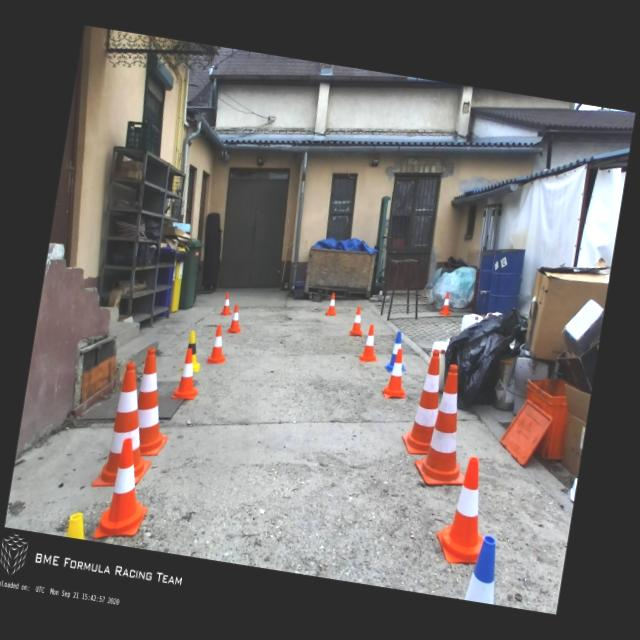blue_cone: (464, 532, 504, 604), (384, 330, 412, 374)
large_orange_cone: (92, 360, 166, 496), (411, 360, 482, 490), (130, 348, 182, 460), (399, 346, 448, 456)
orange_cone: (433, 453, 496, 568), (94, 435, 158, 545), (171, 347, 205, 402), (381, 347, 413, 401), (207, 324, 230, 366), (358, 324, 382, 364), (348, 306, 366, 338), (228, 304, 245, 335), (438, 291, 454, 316), (220, 292, 234, 316), (325, 292, 339, 316)
yellow_cone: (181, 330, 206, 373)
